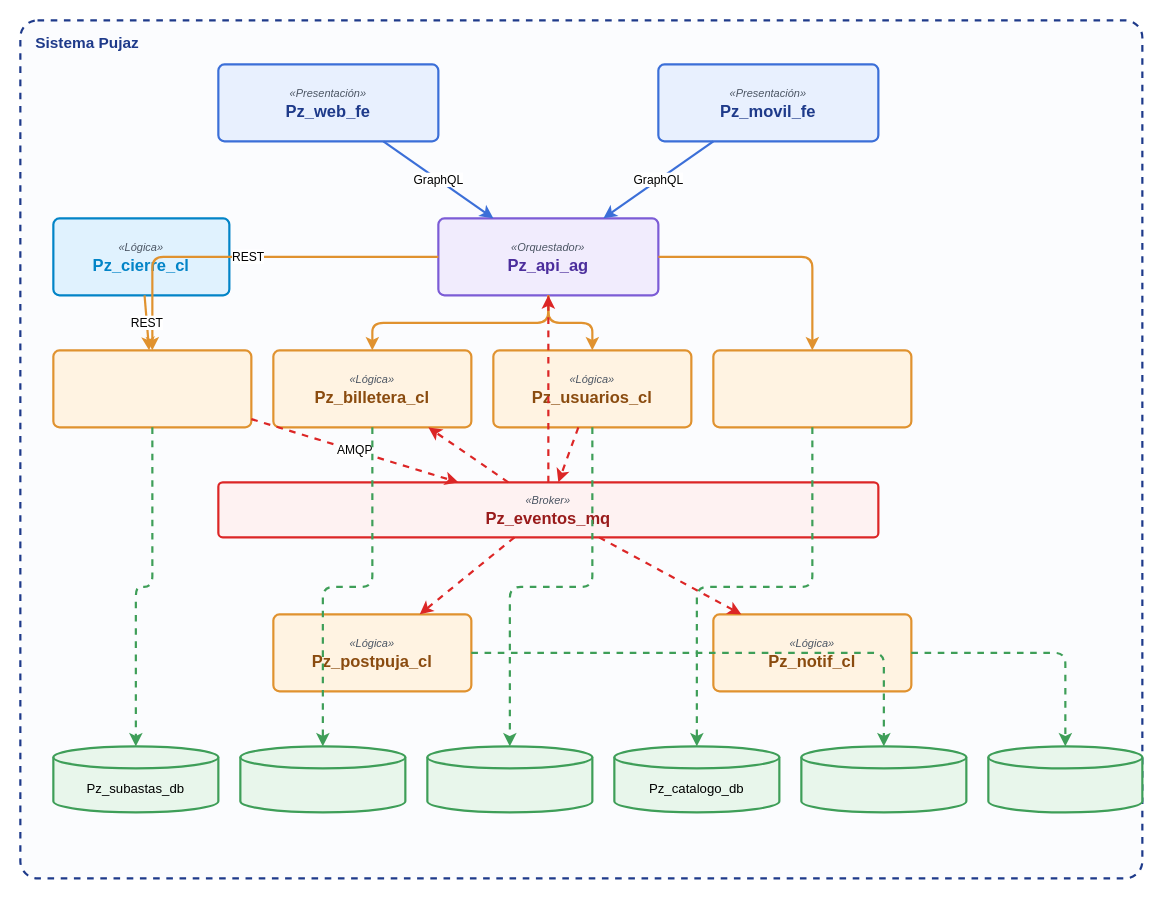
This 1162x898 diagram has some shape labels left out. The centre of each missing label's shape, as x and y in pixels:
Pz_billetera_db: point 322,779
Pz_notif_db (Redis): point 1065,779
Pz_postpuja_db: point 883,779
Pz_usuarios_db: point 509,779
«Lógica» Pz_catalogo_cl: point 812,388
«Lógica» Pz_subastas_cl: point 152,388
